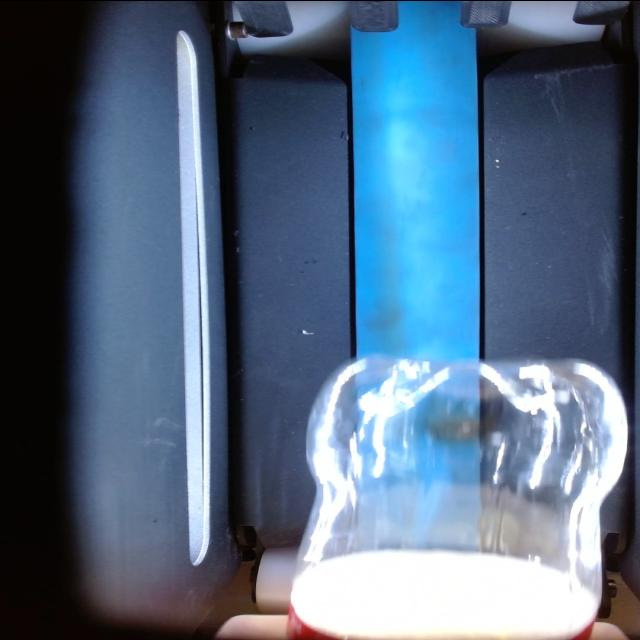bottom: (303, 350, 627, 432)
